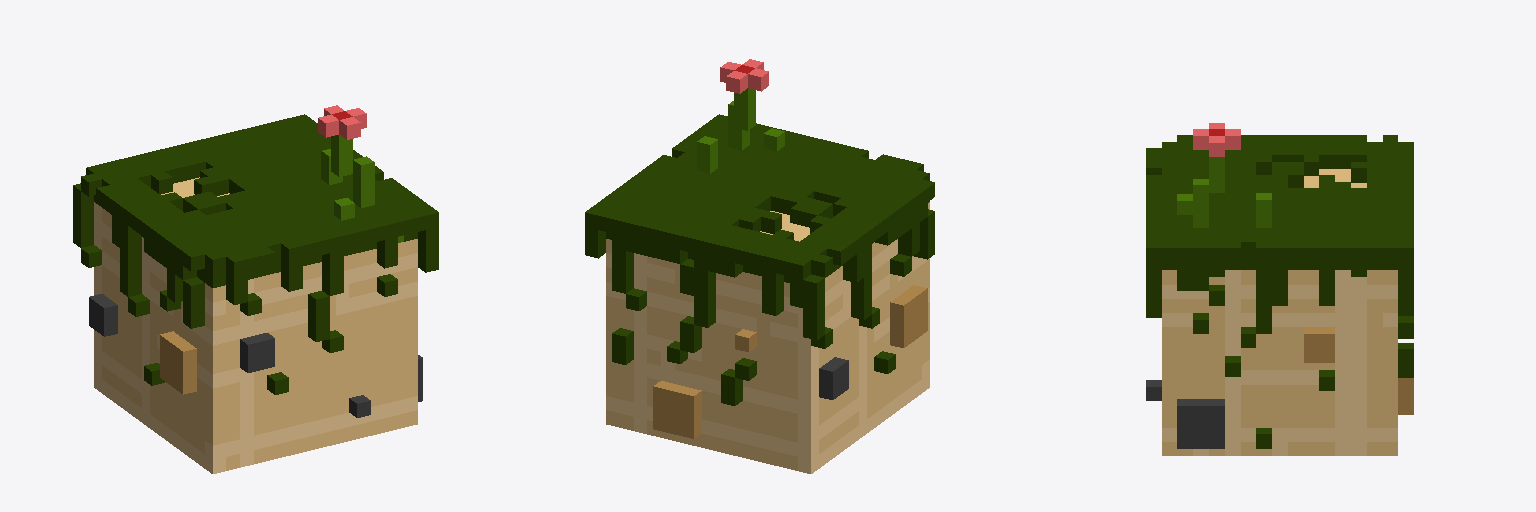
3 views of the same model, side by side, from view 1: azimuth 30°, elevation 25°; view 2: azimuth 150°, elevation 25°; view 3: azimuth 270°, elevation 25° (orthographic).
Parts seen in each view (by area): view 1: object 1; view 2: object 1; view 3: object 1.
Part boxes in pixels (bbox=[...]): object 1: bbox=[73, 105, 438, 473]; object 1: bbox=[585, 59, 934, 473]; object 1: bbox=[1146, 123, 1413, 455].
Bounding box in the file's own units: 1.7 × 2.1 × 1.7.
1 materials, 1 textured.